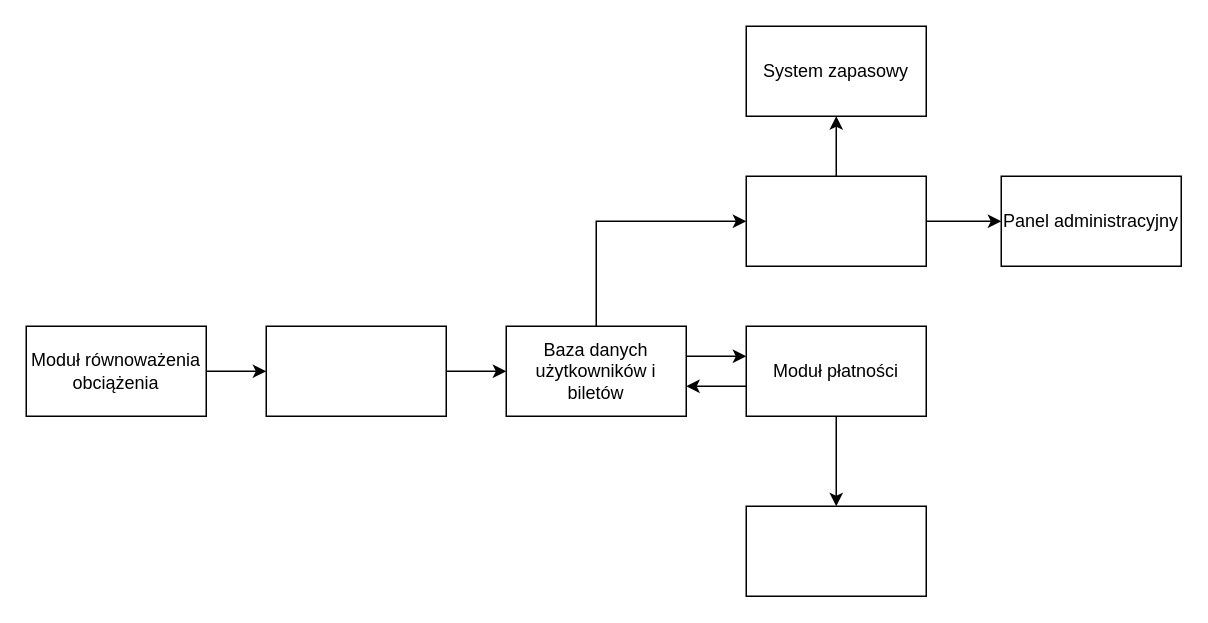
This 1208x623 diagram has some shape labels left out. Here are the shapes that lost their labels. From the top down, the box of each, then its label:
(745, 175, 926, 266): Moduł wysokiej dostępności
(265, 325, 446, 416): Moduł rezerwacji biletów
(745, 505, 926, 596): Moduł powiadomień
